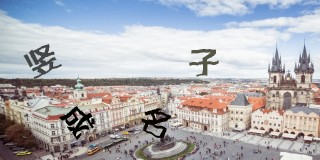名: (141, 108, 171, 139)
子: (189, 48, 219, 76)
成: (58, 106, 96, 140)
竖: (24, 44, 63, 78)
